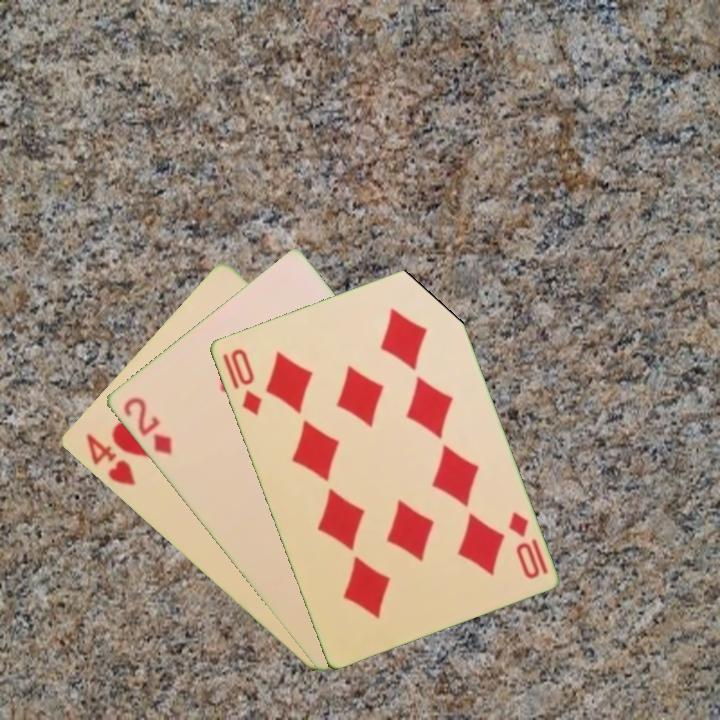10d: (504, 507, 551, 582), (226, 344, 264, 418)
2d: (119, 393, 175, 458)
4h: (81, 430, 138, 489)
